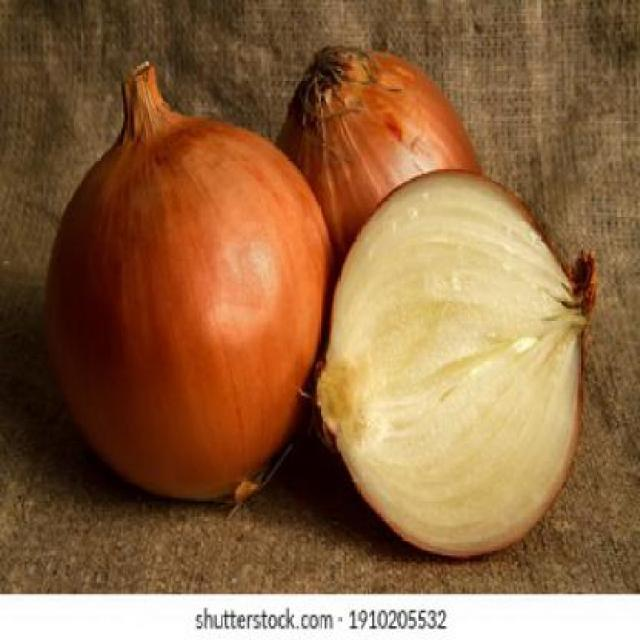Onion: (45, 62, 332, 500), (279, 46, 482, 258)
